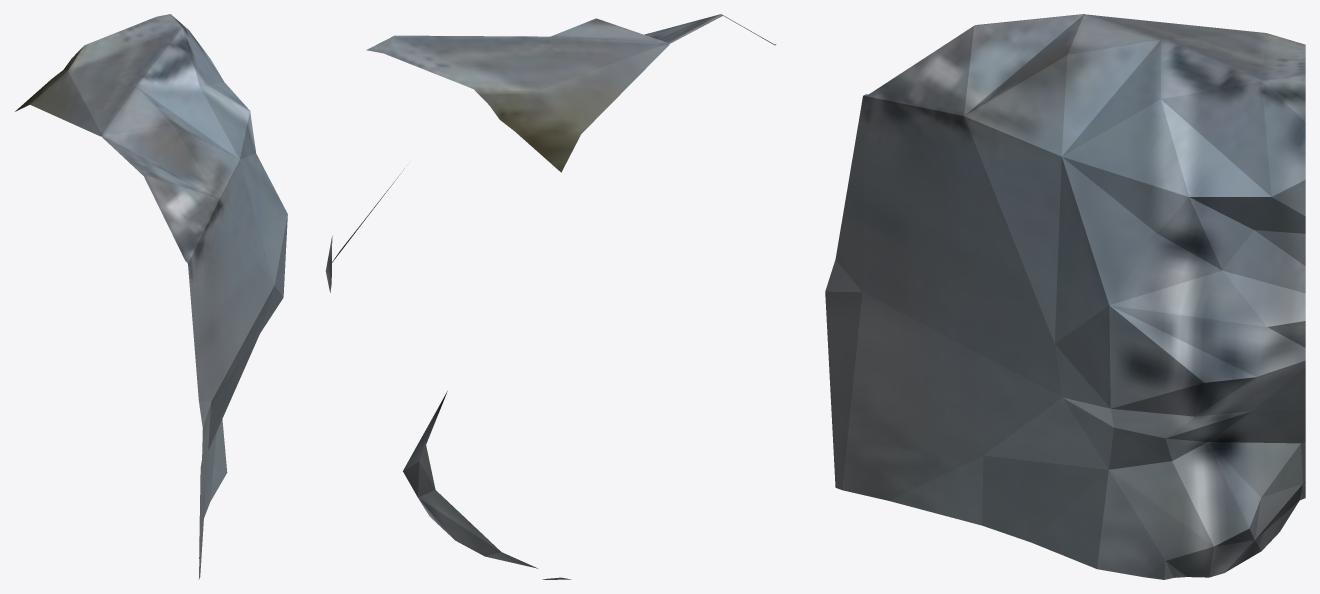
3 views of the same model, side by side, from view 1: azimuth 30°, elevation 25°; view 2: azimuth 150°, elevation 25°; view 3: azimuth 270°, elevation 25° (orthographic). The views are drawn at different scales.
Size of the model in its own units: 0.2945 by 0.5102 by 0.4437.
1 material, 1 textured.
